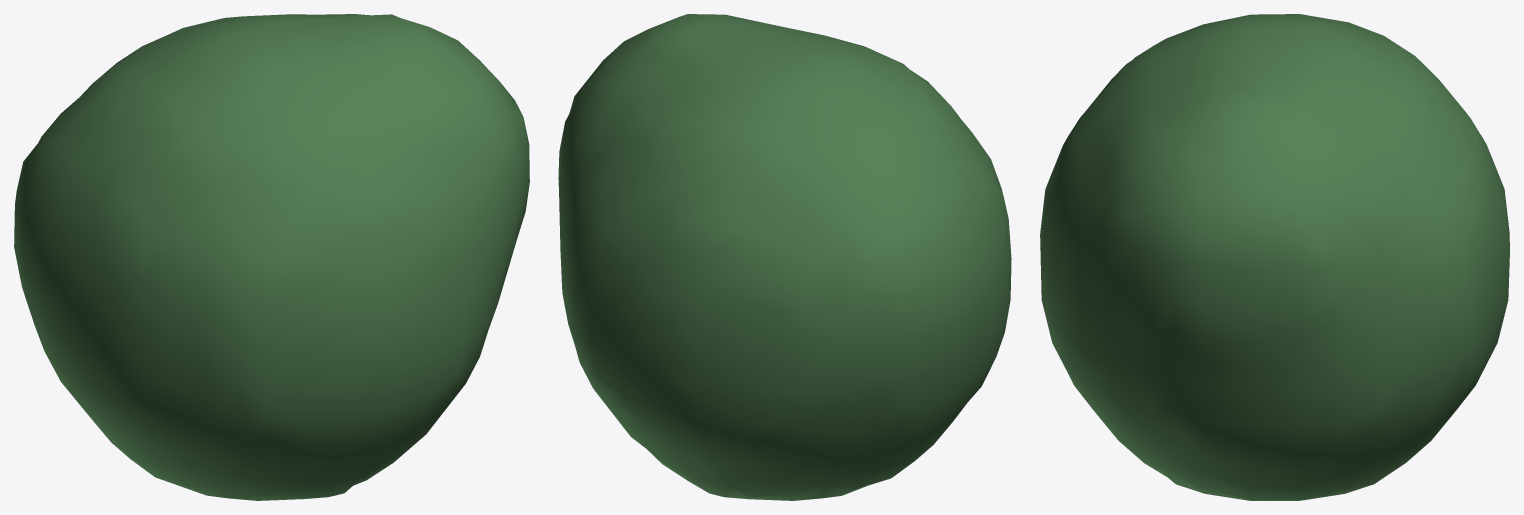
Rendered from Shrub.fbx.
3 views of the same model, side by side, from view 1: azimuth 30°, elevation 25°; view 2: azimuth 150°, elevation 25°; view 3: azimuth 270°, elevation 25° (orthographic). The views are drawn at different scales.
Parts seen in each view (by area): view 1: LOD0; view 2: LOD0; view 3: LOD0.
Boxes of the visible parts, x1=… form: LOD0: x1=14, y1=14, x2=529, y2=500; LOD0: x1=558, y1=14, x2=1011, y2=500; LOD0: x1=1040, y1=14, x2=1509, y2=500.
Size of what is drawn, in the model's own units: 80.91 by 80.48 by 75.7.
